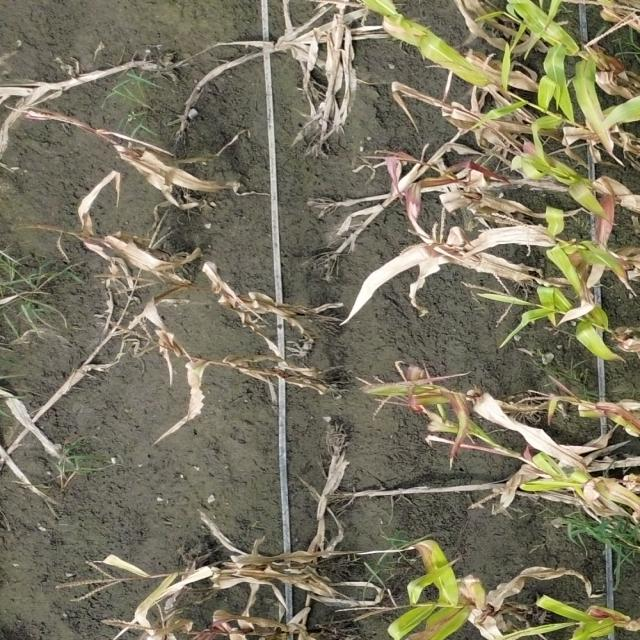northern-leaf-blight: (582, 88, 618, 154), (380, 17, 440, 48), (416, 616, 459, 640), (604, 486, 640, 511)
